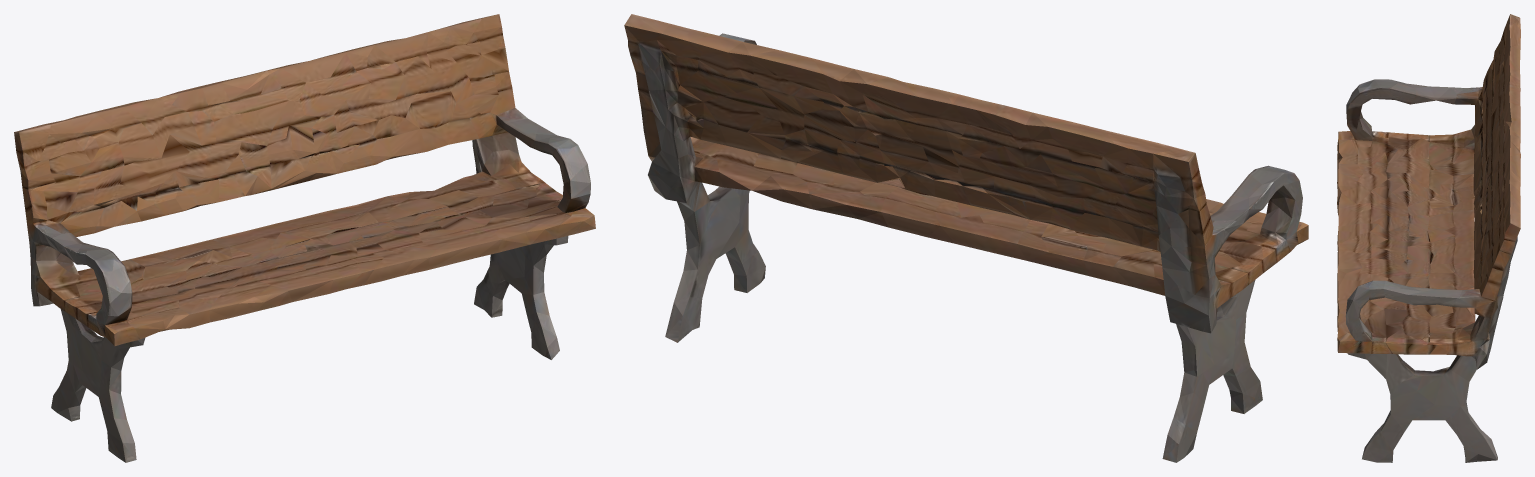
Rendered from park_bench.glb.
3 views of the same model, side by side, from view 1: azimuth 30°, elevation 25°; view 2: azimuth 150°, elevation 25°; view 3: azimuth 270°, elevation 25° (orthographic). The views are drawn at different scales.
Visible parts, largest first — view 1: m; view 2: m; view 3: m.
Part boxes in pixels (x1=…): m: x1=14, y1=14, x2=595, y2=462; m: x1=624, y1=14, x2=1308, y2=462; m: x1=1337, y1=14, x2=1520, y2=462.
Size of the model in its own units: 1.54 by 0.85 by 0.5667.
1 material, 1 textured.
